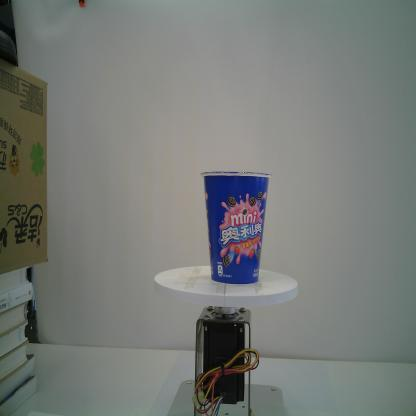Dessert: (200, 170, 273, 285)
